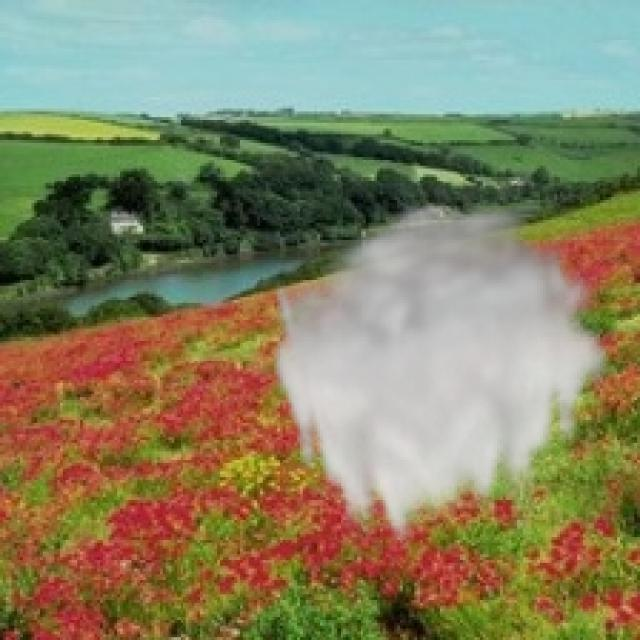Smoke: (268, 194, 614, 557)
